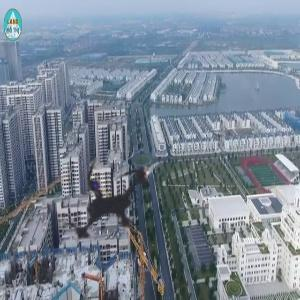drone: (14, 109, 205, 300)
